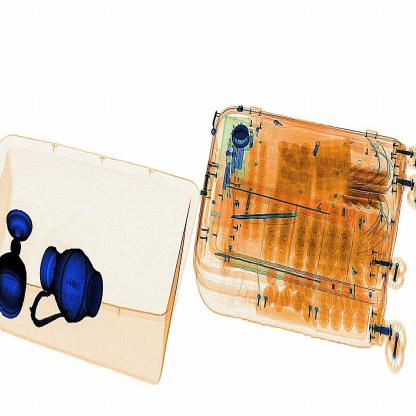pliers: (230, 202, 302, 232)
